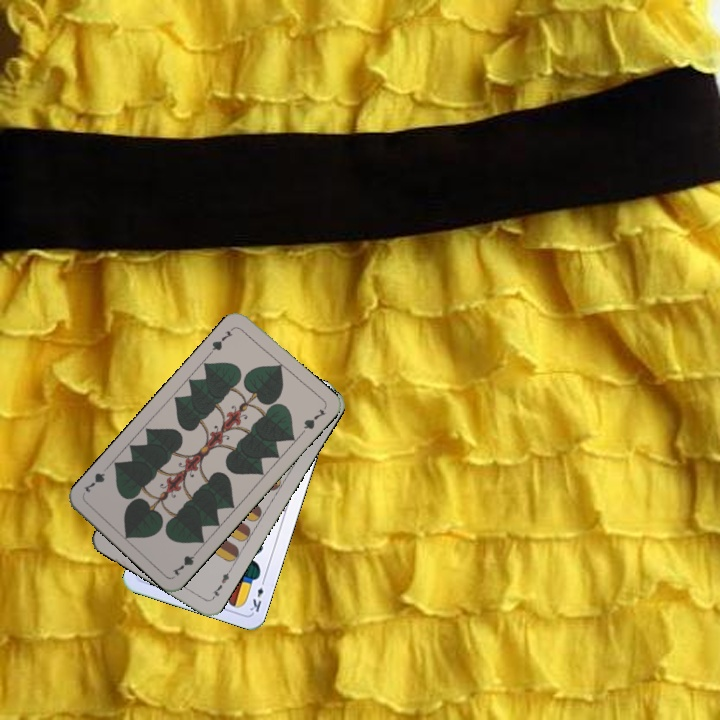E7: (207, 565, 234, 602)
EK: (246, 575, 268, 615)
G7: (168, 545, 202, 578), (206, 327, 235, 357)
